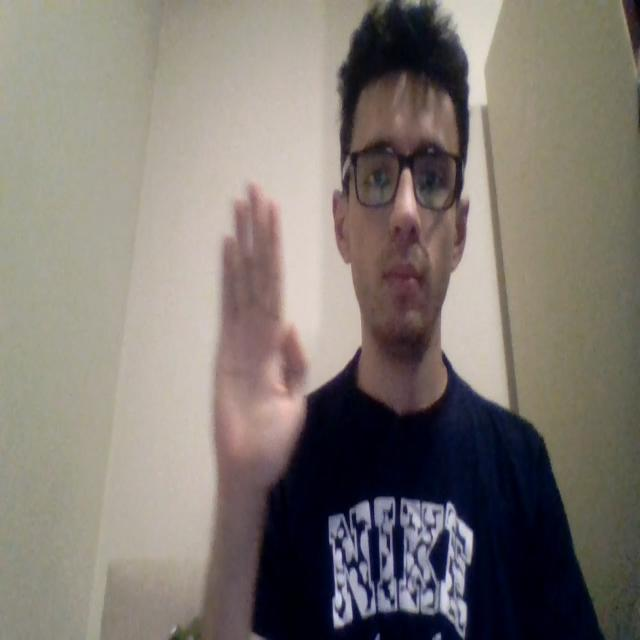hello: (211, 179, 309, 494)
